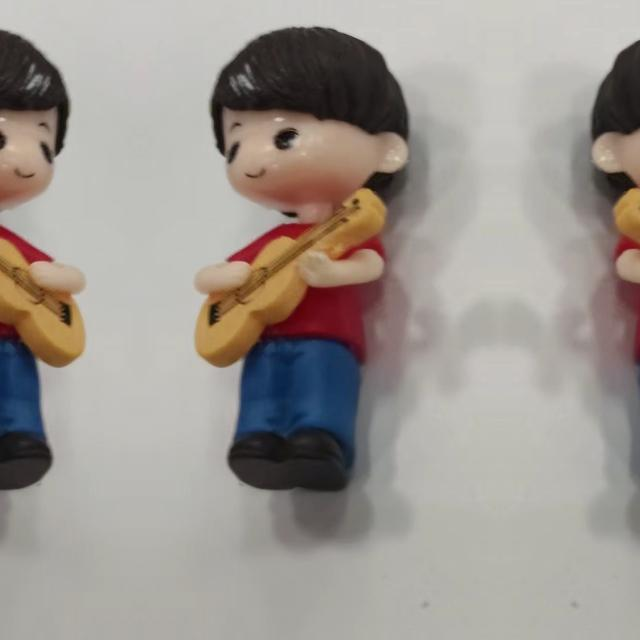man cloth: (216, 217, 390, 347), (0, 217, 64, 347), (609, 217, 640, 347)
man head: (203, 15, 413, 205), (0, 15, 77, 205), (587, 15, 640, 205)
trousers: (215, 338, 382, 510), (0, 337, 65, 510), (618, 337, 640, 510)
